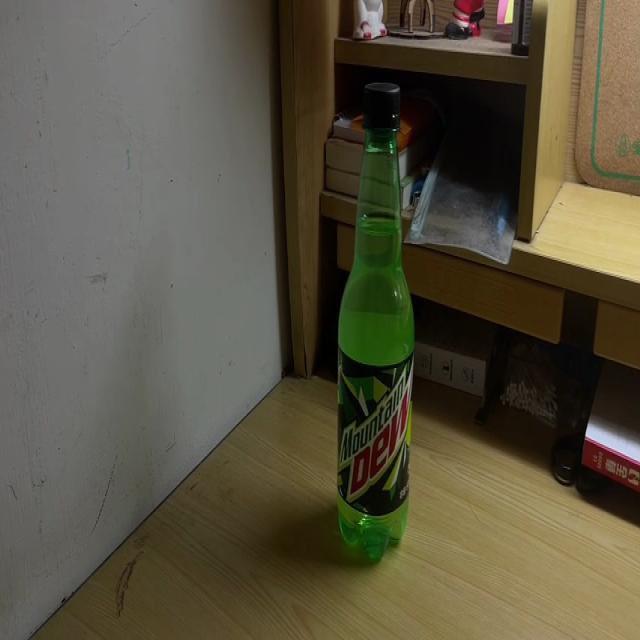Mountain-Dew: (338, 79, 412, 564)
